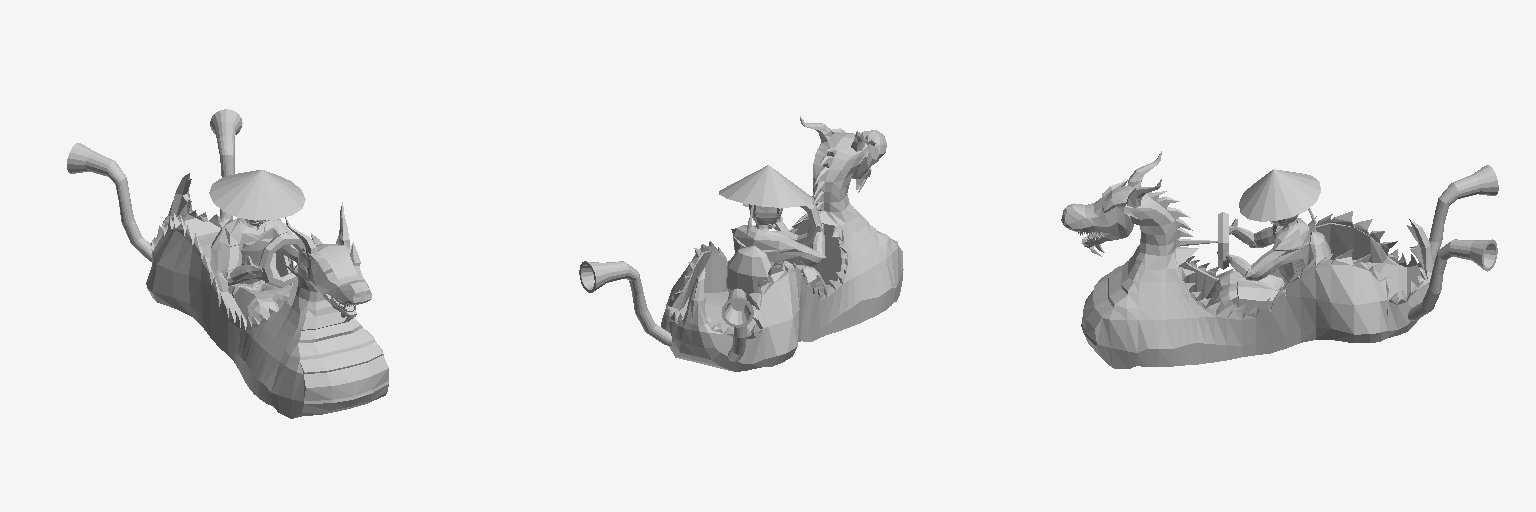
The model's file is Chinovacile_000228.obj.
3 renders of one model, left to right at view 1: azimuth 30°, elevation 25°; view 2: azimuth 150°, elevation 25°; view 3: azimuth 270°, elevation 25°, orthographic.
Parts seen in each view (by area): view 1: ChasisChino_ChasisChinoH, Chino_ChinoH, Tubos_TubosH, volanteChino_VolanteChinoH, AsientoChinoMalla_AsientoChinoMH; view 2: ChasisChino_ChasisChinoH, Chino_ChinoH, Tubos_TubosH, AsientoChinoMalla_AsientoChinoMH, volanteChino_VolanteChinoH; view 3: ChasisChino_ChasisChinoH, Chino_ChinoH, Tubos_TubosH, volanteChino_VolanteChinoH.
Boxes of the visible parts, x1,y1,x2,y2 form: ChasisChino_ChasisChinoH: [146, 173, 388, 418]; Chino_ChinoH: [209, 170, 305, 321]; Tubos_TubosH: [67, 109, 242, 261]; volanteChino_VolanteChinoH: [259, 234, 304, 287]; AsientoChinoMalla_AsientoChinoMH: [210, 227, 228, 292]; ChasisChino_ChasisChinoH: [661, 116, 903, 371]; Chino_ChinoH: [719, 165, 825, 292]; Tubos_TubosH: [579, 261, 753, 361]; AsientoChinoMalla_AsientoChinoMH: [726, 246, 771, 305]; volanteChino_VolanteChinoH: [774, 203, 821, 244]; ChasisChino_ChasisChinoH: [1061, 151, 1434, 368]; Chino_ChinoH: [1203, 169, 1320, 316]; Tubos_TubosH: [1408, 165, 1498, 320]; volanteChino_VolanteChinoH: [1218, 212, 1228, 269].
Size of the model in its own units: 6.15 by 6.07 by 13.3.